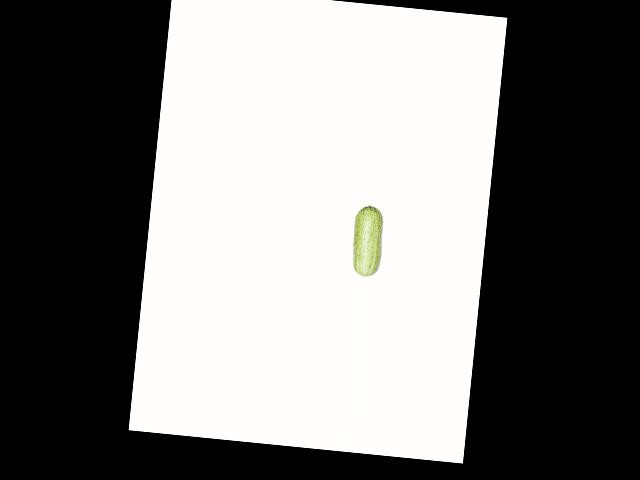cucumber: (350, 203, 385, 277)
